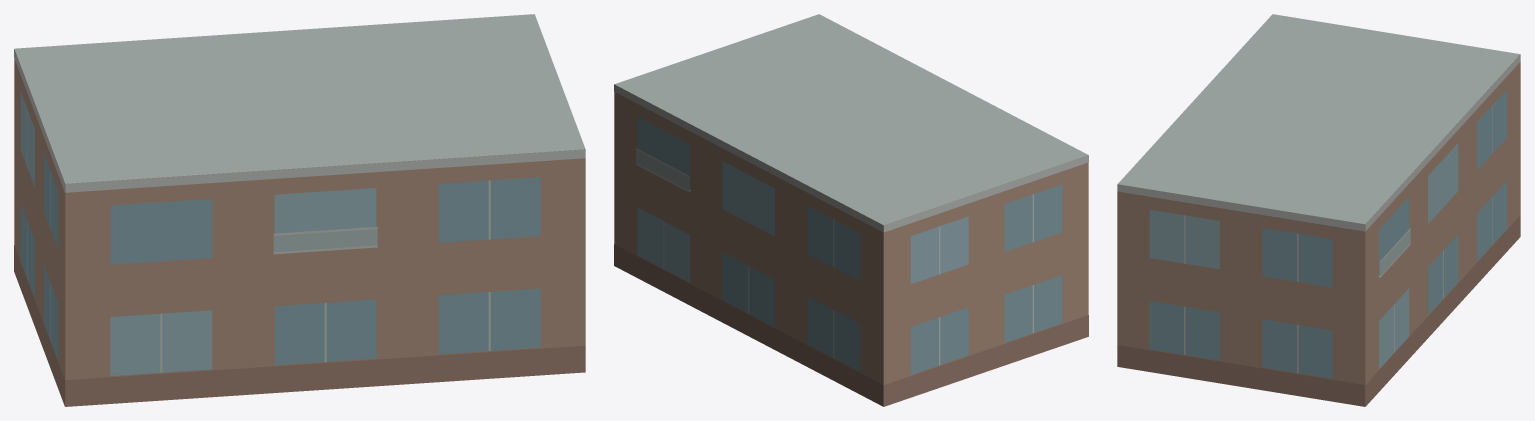
Rendered from survey-upis-32717916.glb.
3 views of the same model, side by side, from view 1: azimuth 30°, elevation 25°; view 2: azimuth 150°, elevation 25°; view 3: azimuth 270°, elevation 25° (orthographic). The views are drawn at different scales.
Parts seen in each view (by area): view 1: survey-upis-32717916.tmp; view 2: survey-upis-32717916.tmp; view 3: survey-upis-32717916.tmp.
Part boxes in pixels (left/top/right/bottom): survey-upis-32717916.tmp: left=14, top=14, right=585, bottom=406; survey-upis-32717916.tmp: left=614, top=14, right=1088, bottom=406; survey-upis-32717916.tmp: left=1117, top=14, right=1520, bottom=406.
Size of the model in its own units: 15.08 by 6.1 by 12.21.
